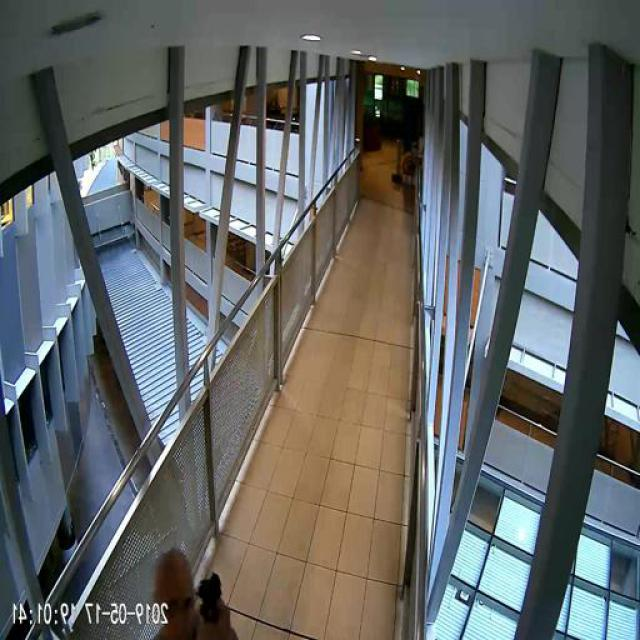Gun: (198, 568, 226, 638)
